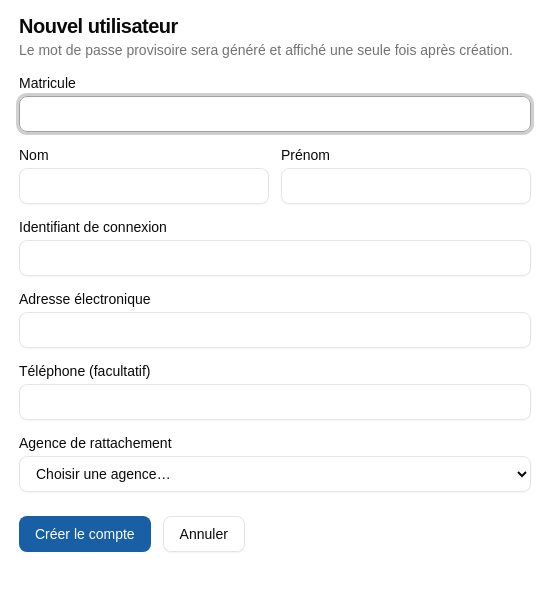
Test: PageCreationUtilisateur › exige une agence (règle métier : pas de compte orphelin)
In the field labelled "Matricule": x=275, y=114 [19,96,531,132], type "MAT-001"
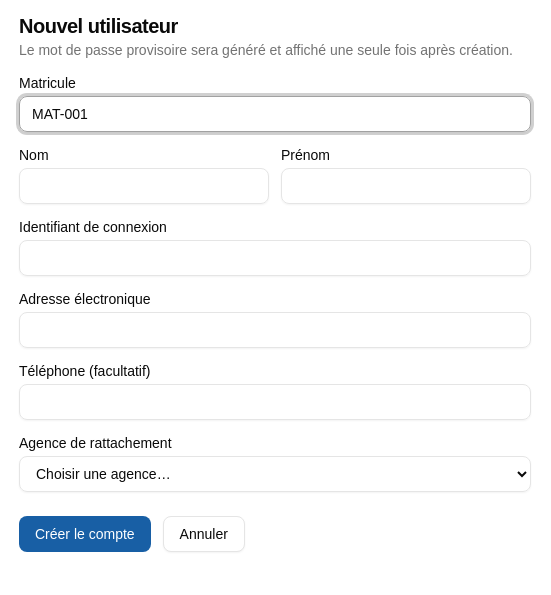
In the field labelled "Nom": x=144, y=186 [19,168,269,204], type "Diallo"
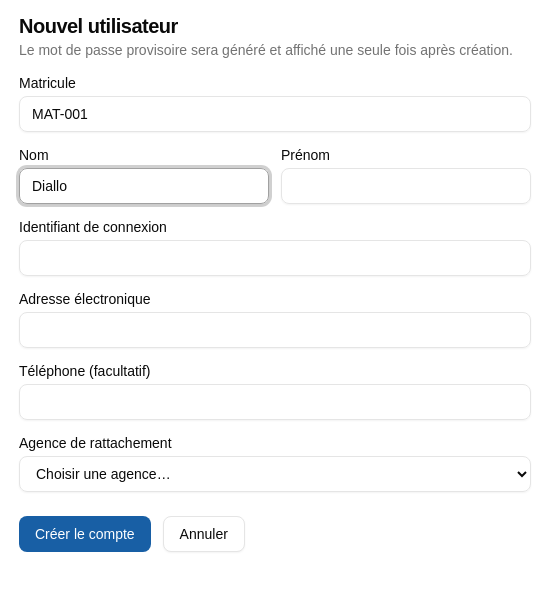
In the field labelled "Prénom": x=406, y=186 [281,168,531,204], type "Amadou"
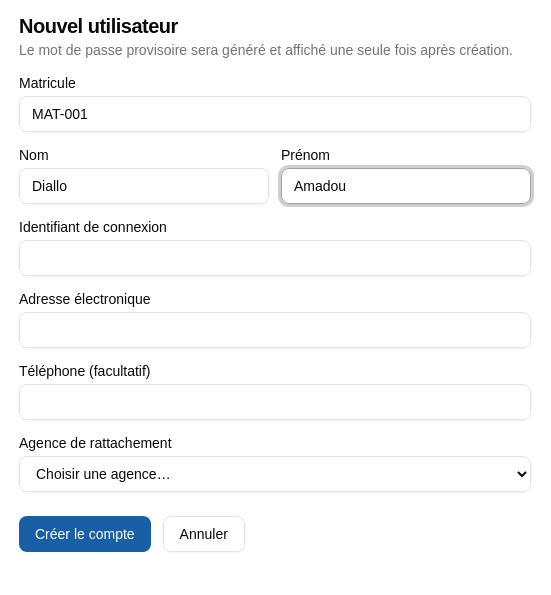
In the field labelled "Identifiant de connexion": x=275, y=258 [19,240,531,276], type "adiallo"
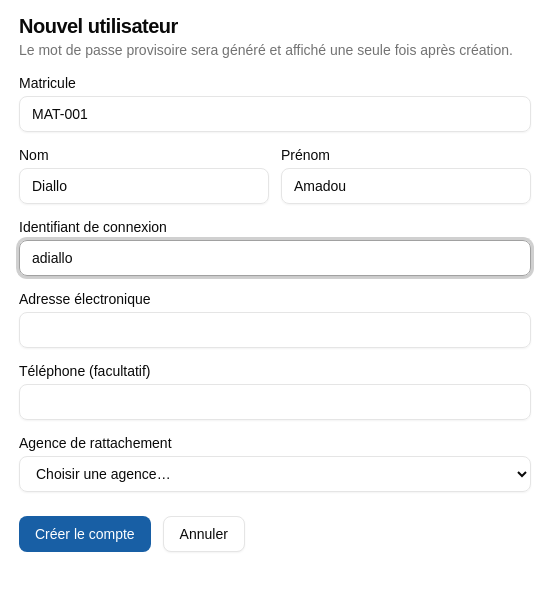
In the field labelled "Adresse électronique": x=275, y=330 [19,312,531,348], type "a.diallo@imf.local"
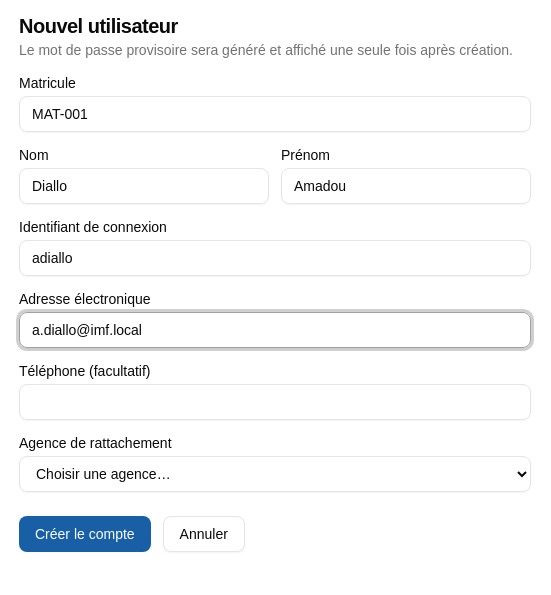
agence NON sélectionnée
Click the button "Créer le compte": x=85, y=534 [19,516,151,552]
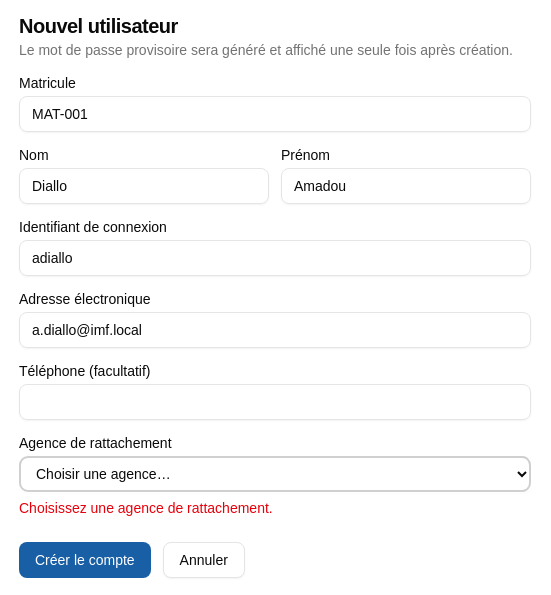
Expected: the text "Choisissez une agence de rattachement." is shown, [19,500,273,516]
